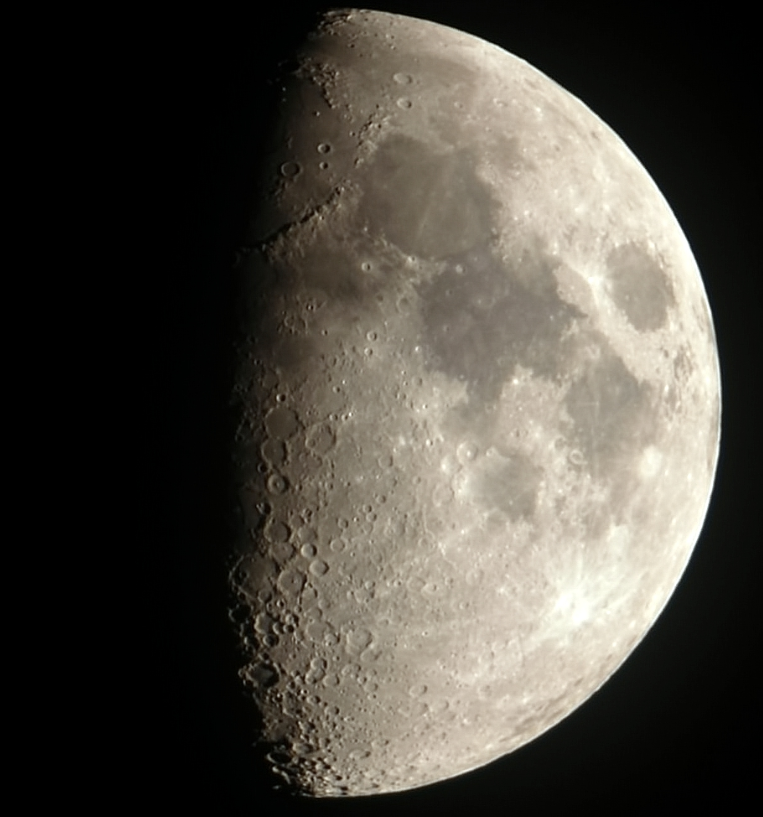crater: (494, 544, 625, 656), (303, 414, 352, 471), (616, 438, 670, 487), (234, 655, 290, 702), (428, 308, 471, 356), (439, 82, 476, 133), (452, 432, 488, 477), (481, 87, 514, 133), (342, 249, 383, 286), (499, 363, 539, 400), (388, 91, 426, 126), (380, 61, 420, 93), (262, 470, 296, 502), (396, 678, 442, 701), (305, 558, 333, 584), (312, 132, 337, 159), (281, 154, 304, 183), (358, 319, 383, 345)
